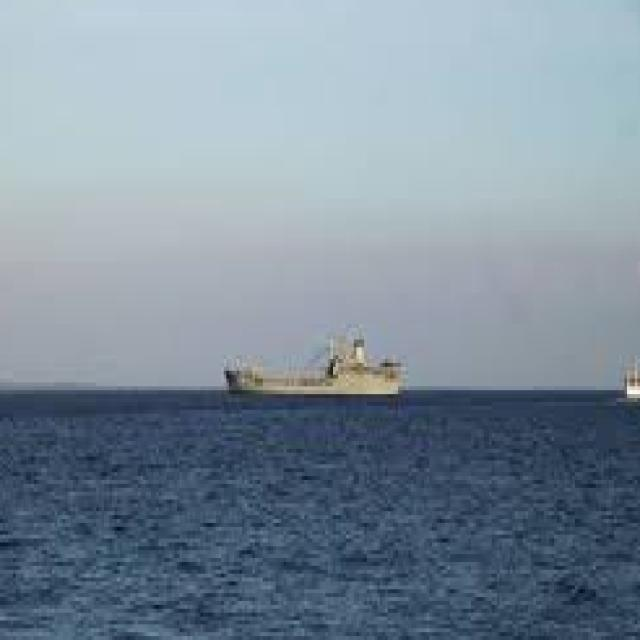cargoship: (218, 323, 402, 397)
